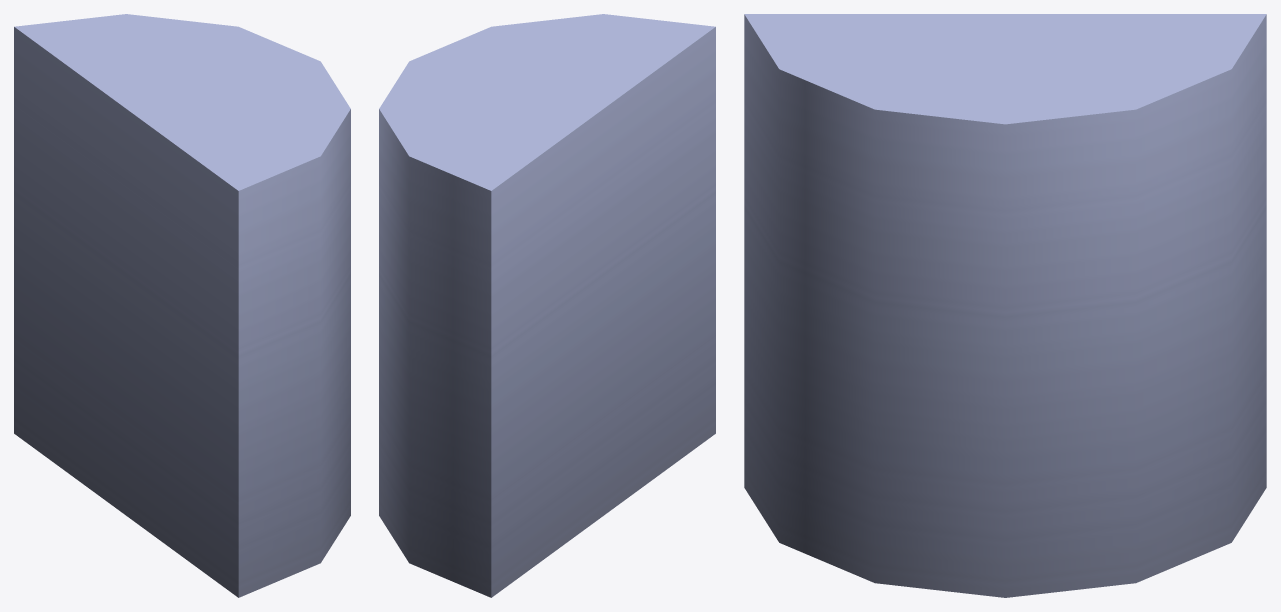
File: shape-cylinder-half.fbx
The picture shows the model from 3 angles, left to right: view 1: azimuth 30°, elevation 25°; view 2: azimuth 150°, elevation 25°; view 3: azimuth 270°, elevation 25°; orthographic projection. The views are drawn at different scales.
Parts seen in each view (by area): view 1: shape-cylinder-half; view 2: shape-cylinder-half; view 3: shape-cylinder-half.
Part boxes in pixels (left/top/right/bottom): shape-cylinder-half: left=14, top=14, right=350, bottom=597; shape-cylinder-half: left=379, top=14, right=715, bottom=597; shape-cylinder-half: left=744, top=14, right=1266, bottom=597.
Bounding box in the file's own units: 50 × 100 × 100.
